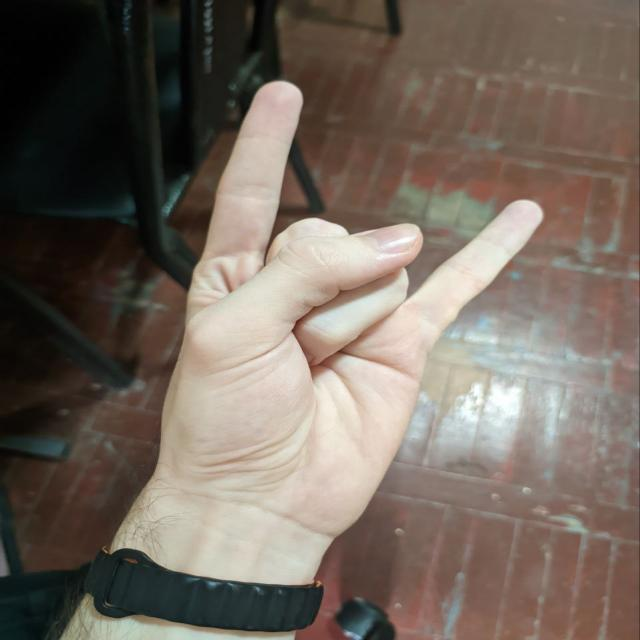y: (190, 64, 566, 514)
